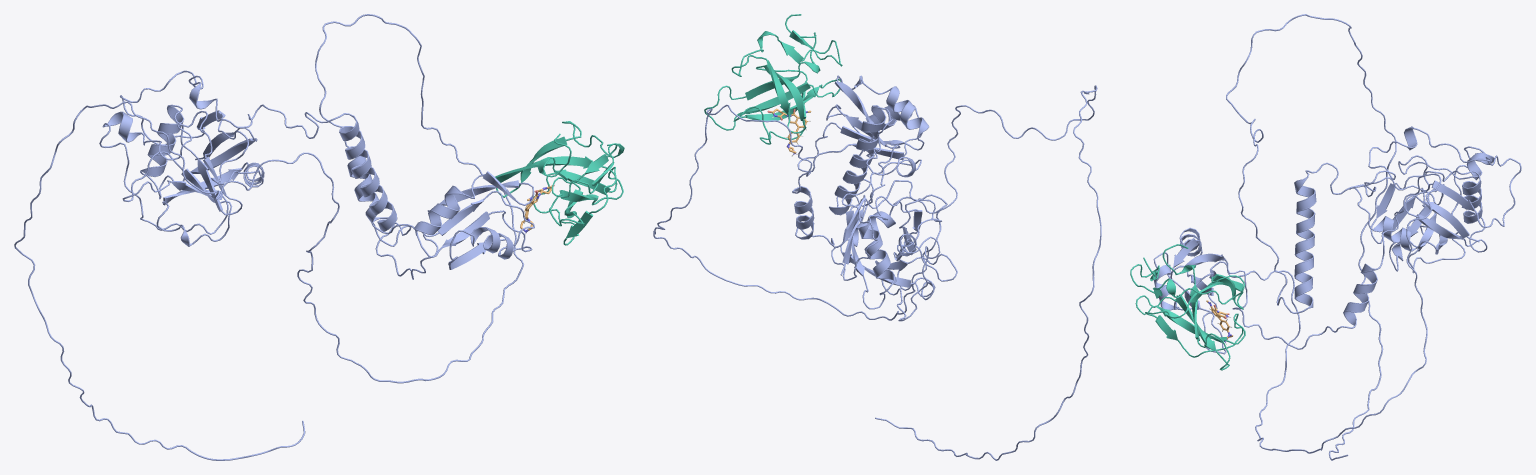
3 renders of one model, left to right at view 1: azimuth 30°, elevation 25°; view 2: azimuth 150°, elevation 25°; view 3: azimuth 270°, elevation 25°, orthographic. The views are drawn at different scales.
Parts seen in each view (by area): view 1: node-geom71, node-geom72; view 2: node-geom71, node-geom72; view 3: node-geom71, node-geom72.
Boxes of the visible parts, x1,y1,x2,y2 form: node-geom71: [99, 70, 624, 246]; node-geom72: [14, 14, 534, 460]; node-geom71: [704, 14, 957, 321]; node-geom72: [653, 75, 1101, 460]; node-geom71: [1130, 126, 1521, 370]; node-geom72: [1153, 14, 1441, 460].
Size of the model in its own units: 139 by 105 by 100.
